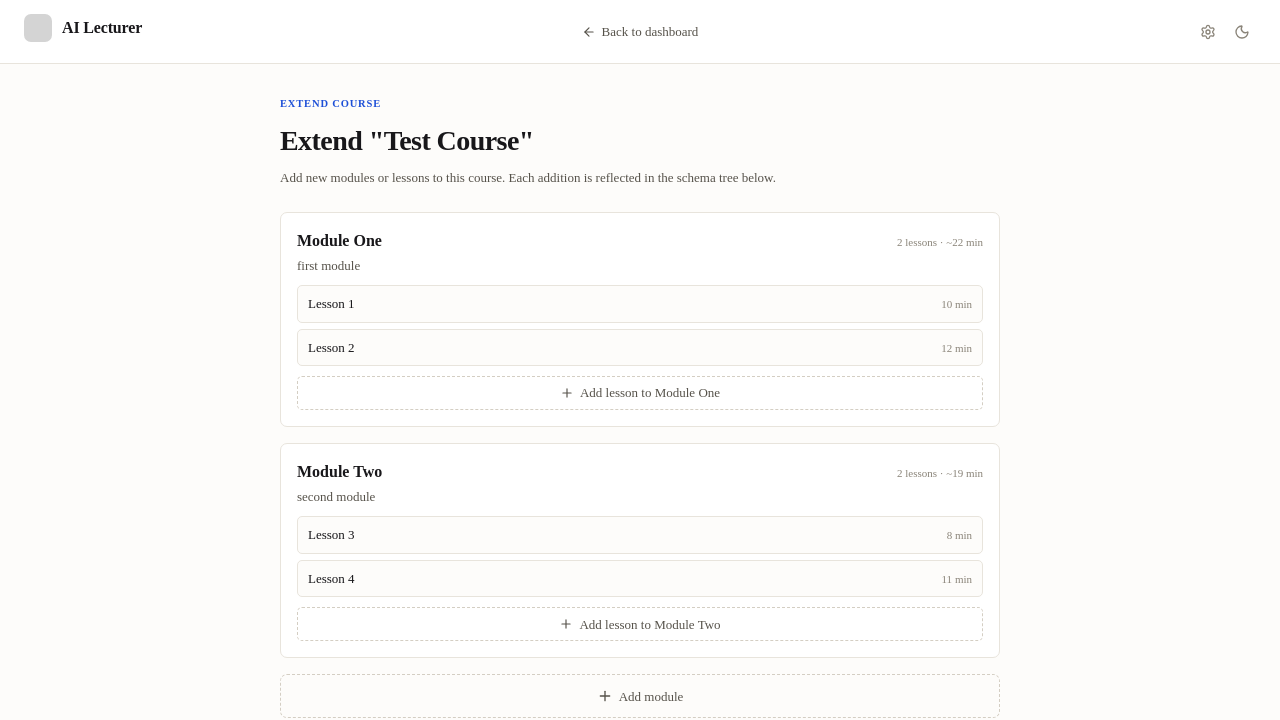
Scenario: Extend wizard page (US-180 direct-add) › Module dialog: opens with Title + Details fields and Module labels (US-180)
The image size is (1280, 720).
Step 1. Click the button with test id "extend-add-module" → (640, 696), box [280,674,1000,718]
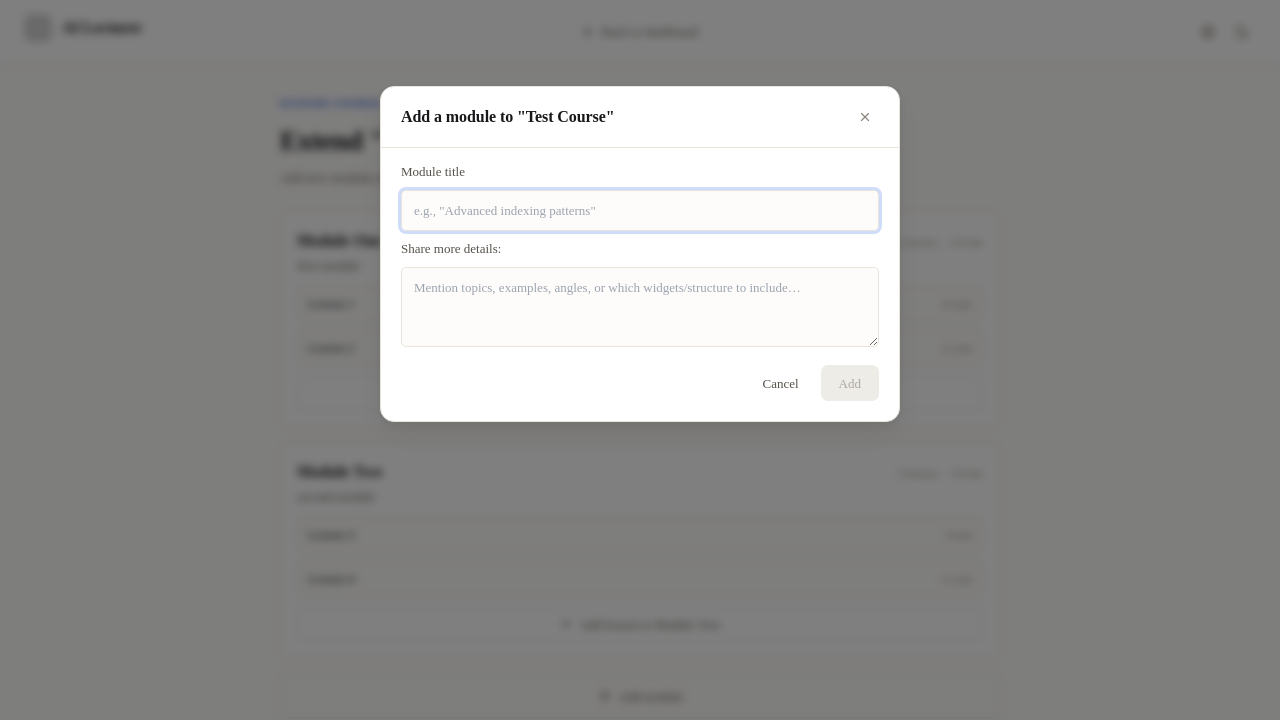
Result: the dialog with test id "extend-dialog" shows "Module title" at [401,164,465,179]
Result: the dialog with test id "extend-dialog" shows "Share more details:" at [401,241,501,256]
